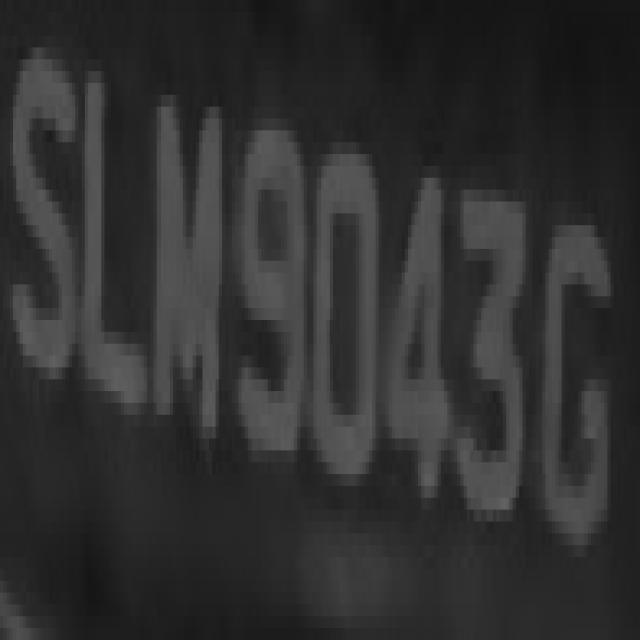0: (307, 95, 385, 521)
3: (448, 166, 532, 569)
4: (382, 142, 454, 569)
9: (238, 59, 310, 510)
G: (532, 166, 617, 581)
L: (85, 24, 144, 450)
M: (147, 71, 229, 474)
S: (9, 12, 82, 403)
